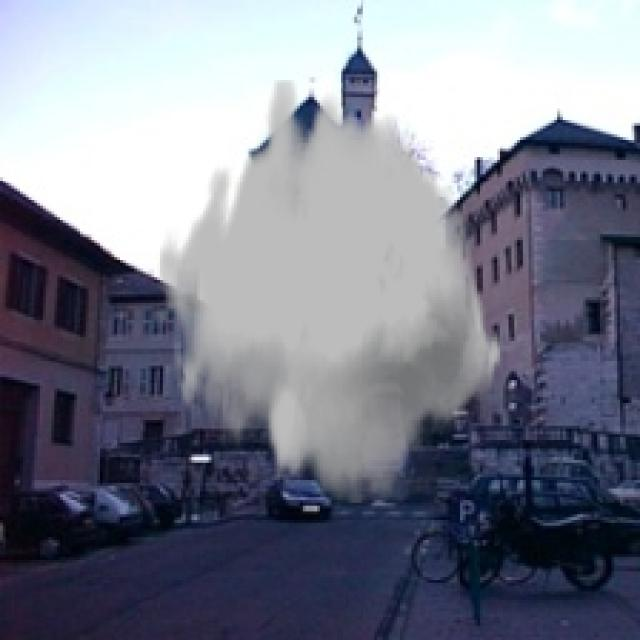smoke: (157, 80, 503, 503)
